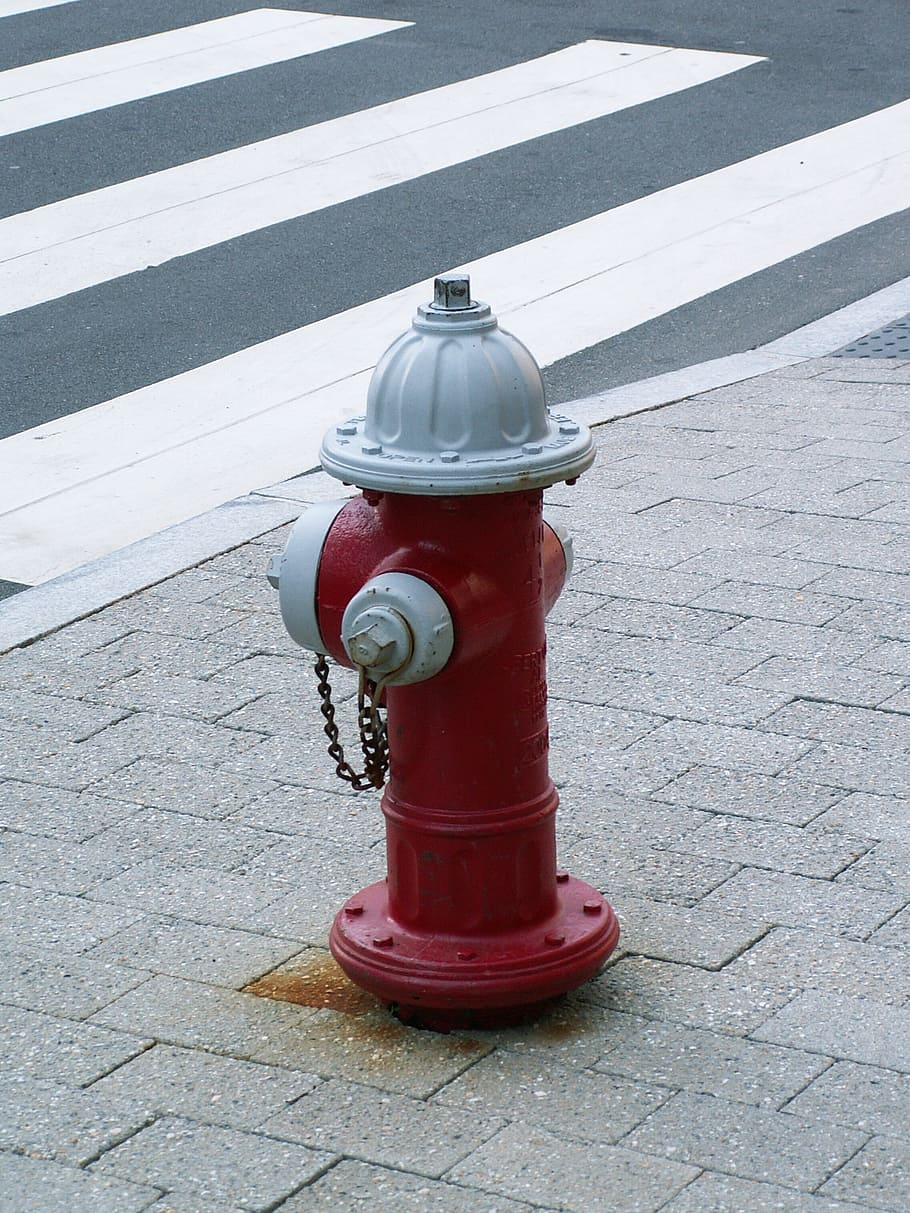firehdyrant: (245, 300, 612, 1022)
zebracross: (5, 10, 903, 274)
